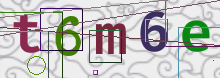6: (136, 6, 173, 56), (49, 13, 87, 59)
e: (177, 18, 216, 56)
m: (91, 19, 130, 59)
t: (11, 10, 45, 56)
